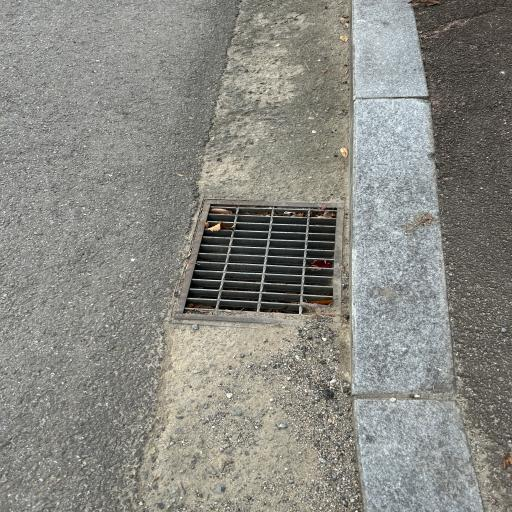drain: (178, 203, 343, 316)
